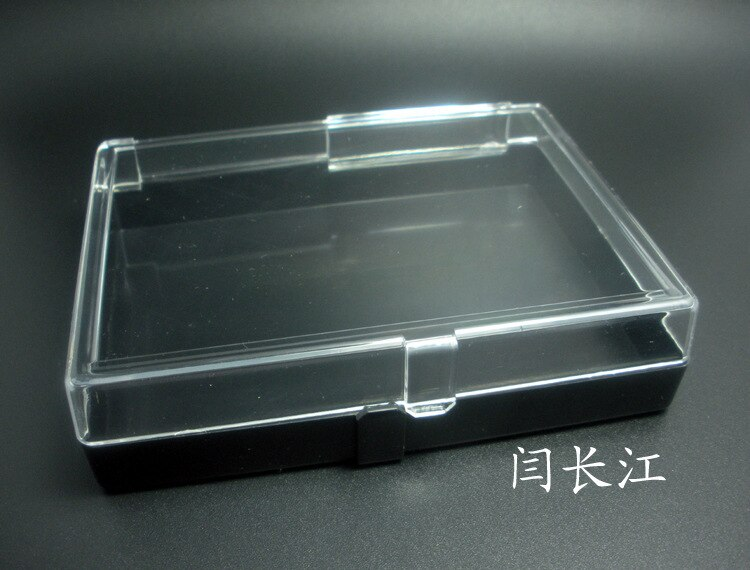PlasticBox: (59, 96, 703, 505)
